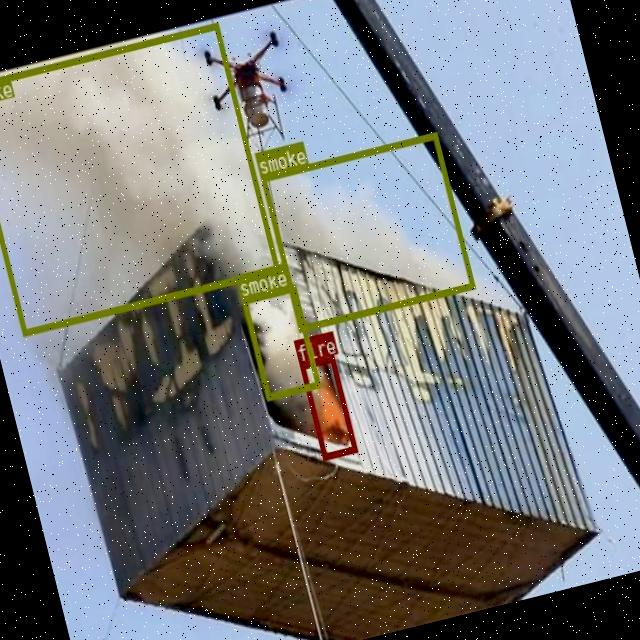fire: (298, 354, 356, 458)
smoke: (0, 21, 279, 335), (259, 130, 474, 331), (240, 284, 319, 398)
